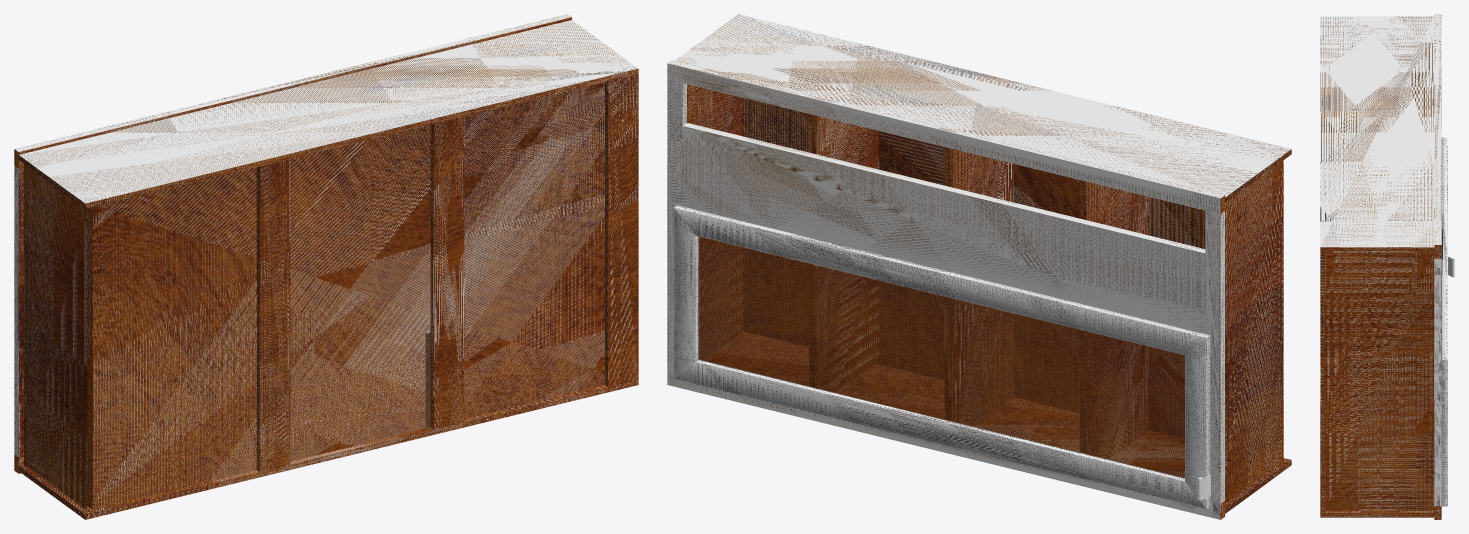
The picture shows the model from 3 angles, left to right: view 1: azimuth 30°, elevation 25°; view 2: azimuth 150°, elevation 25°; view 3: azimuth 270°, elevation 25°; orthographic projection. The views are drawn at different scales.
Visible parts, largest first — view 1: mesh6_mesh6-geometry, mesh8_mesh8-geometry, mesh3_mesh3-geometry, mesh1_mesh1-geometry, mesh7_mesh7-geometry, mesh9_mesh9-geometry, mesh4_mesh4-geometry, mesh2_mesh2-geometry; view 2: mesh18_mesh18-geometry, mesh17_mesh17-geometry, mesh11_mesh11-geometry, mesh8_mesh8-geometry, mesh12_mesh12-geometry, mesh5_mesh5-geometry, mesh1_mesh1-geometry, mesh21_mesh21-geometry, mesh7_mesh7-geometry, mesh22_mesh22-geometry, mesh9_mesh9-geometry, mesh4_mesh4-geometry (+4 smaller); view 3: mesh2_mesh2-geometry, mesh8_mesh8-geometry, mesh4_mesh4-geometry, mesh9_mesh9-geometry, mesh3_mesh3-geometry, mesh22_mesh22-geometry, mesh7_mesh7-geometry, mesh19_mesh19-geometry, mesh14_mesh14-geometry.
Part boxes in pixels (x1,y1,x2,y2): mesh6_mesh6-geometry: (92,82,604,509); mesh8_mesh8-geometry: (18,20,638,208); mesh3_mesh3-geometry: (256,74,638,471); mesh1_mesh1-geometry: (24,164,87,510); mesh7_mesh7-geometry: (18,379,638,519); mesh9_mesh9-geometry: (14,14,571,168); mesh4_mesh4-geometry: (14,165,23,457); mesh2_mesh2-geometry: (87,207,92,509); mesh18_mesh18-geometry: (700,237,1184,476); mesh17_mesh17-geometry: (701,237,1184,475); mesh11_mesh11-geometry: (682,123,1205,333); mesh8_mesh8-geometry: (675,14,1291,202); mesh12_mesh12-geometry: (809,114,1148,458); mesh5_mesh5-geometry: (743,98,1205,438); mesh1_mesh1-geometry: (687,84,1283,503); mesh21_mesh21-geometry: (697,359,1184,503); mesh7_mesh7-geometry: (704,331,1291,513); mesh22_mesh22-geometry: (697,211,1186,354); mesh9_mesh9-geometry: (667,60,1224,214); mesh4_mesh4-geometry: (667,79,1224,503); mesh2_mesh2-geometry: (1325,251,1434,510); mesh8_mesh8-geometry: (1320,16,1434,251); mesh4_mesh4-geometry: (1434,258,1441,506); mesh9_mesh9-geometry: (1434,14,1441,258); mesh3_mesh3-geometry: (1320,251,1325,512); mesh22_mesh22-geometry: (1441,147,1447,350); mesh7_mesh7-geometry: (1320,511,1434,517); mesh19_mesh19-geometry: (1441,380,1447,485); mesh14_mesh14-geometry: (1441,350,1447,380).
Bounding box in the file's own units: 0.8547 × 0.4748 × 0.2099.
